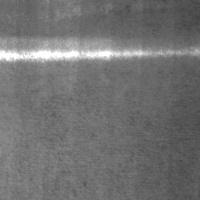scratches: (0, 36, 199, 64)
